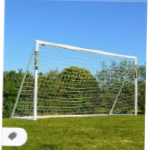goals: (10, 36, 142, 121)
